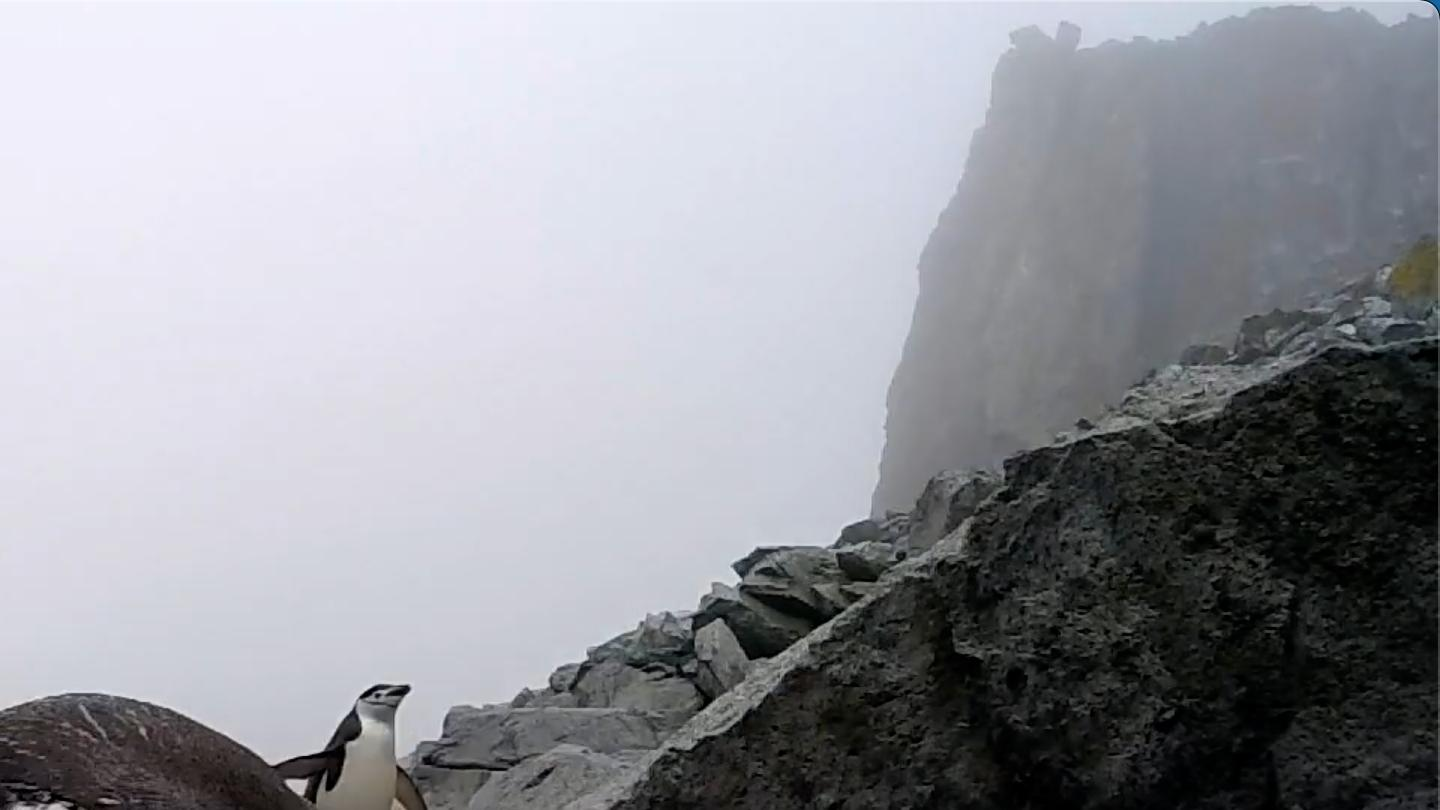Chinstrap Penguin: (0, 684, 528, 810), (305, 668, 421, 792)
